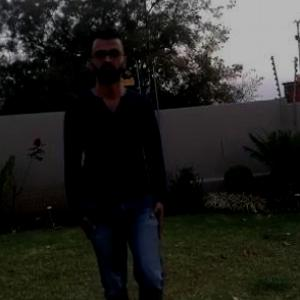follow: (70, 39, 168, 299)
